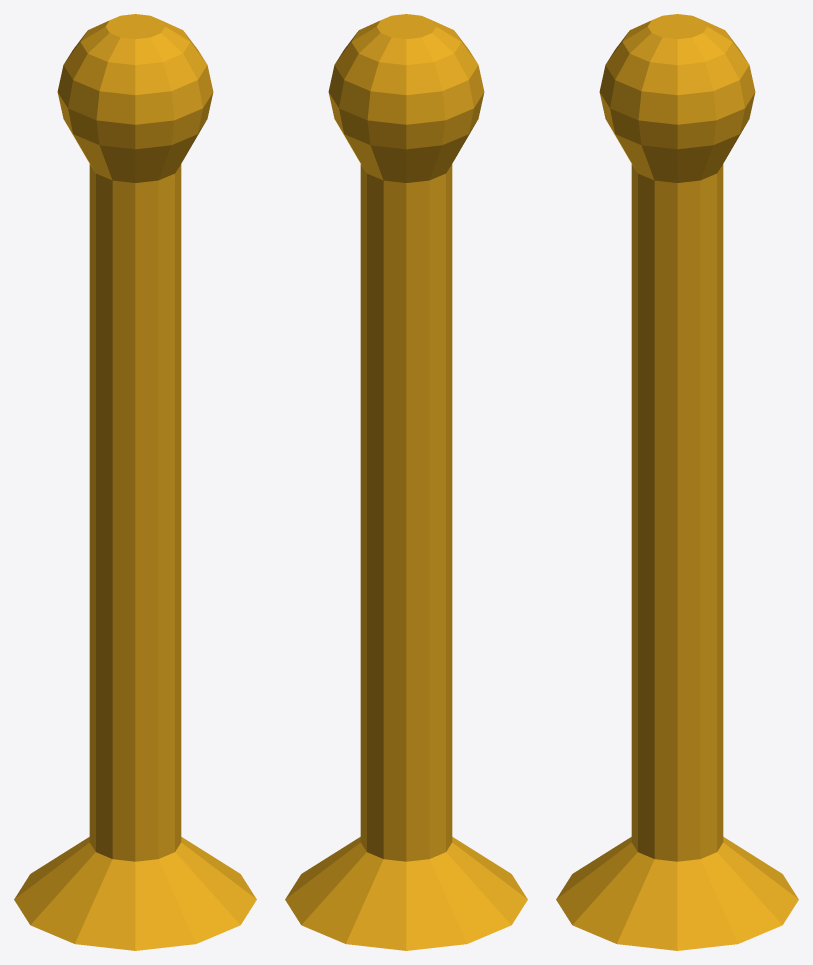
File: stanchion.fbx
3 views of the same model, side by side, from view 1: azimuth 30°, elevation 25°; view 2: azimuth 150°, elevation 25°; view 3: azimuth 270°, elevation 25° (orthographic).
Visible parts, largest first — view 1: Sphere; view 2: Sphere; view 3: Sphere.
Boxes of the visible parts, bbox=[...] form: Sphere: bbox=[14, 14, 256, 950]; Sphere: bbox=[285, 14, 527, 950]; Sphere: bbox=[556, 14, 798, 950].
Size of the model in its own units: 40.49 by 161 by 40.49.
